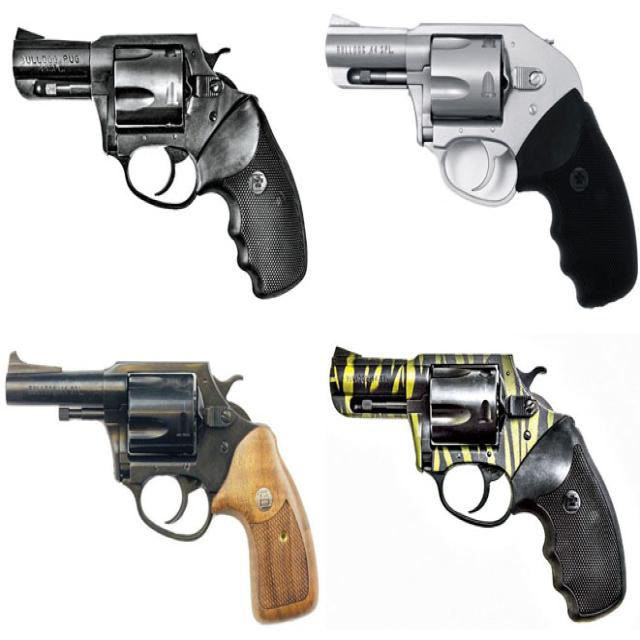Gun: (316, 22, 622, 318), (7, 336, 314, 630), (15, 25, 297, 294), (336, 362, 628, 610)
